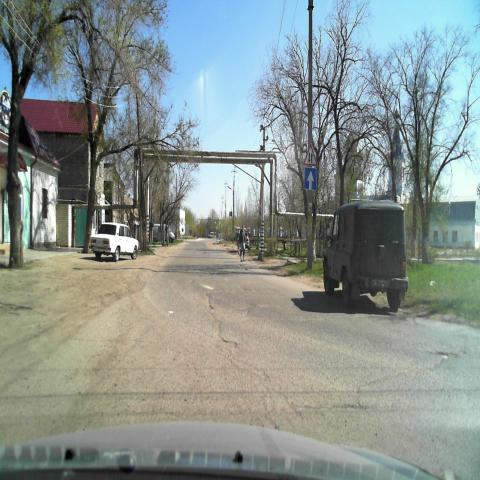1_21: (302, 141, 320, 167)
